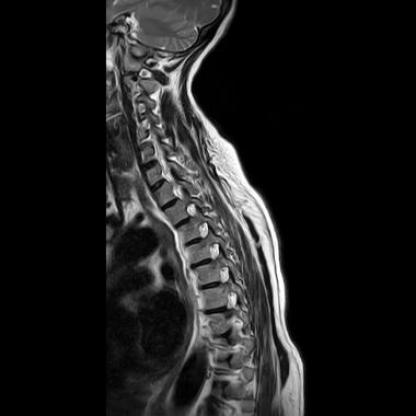Disc Bulgerotation: (132, 135, 155, 148)
